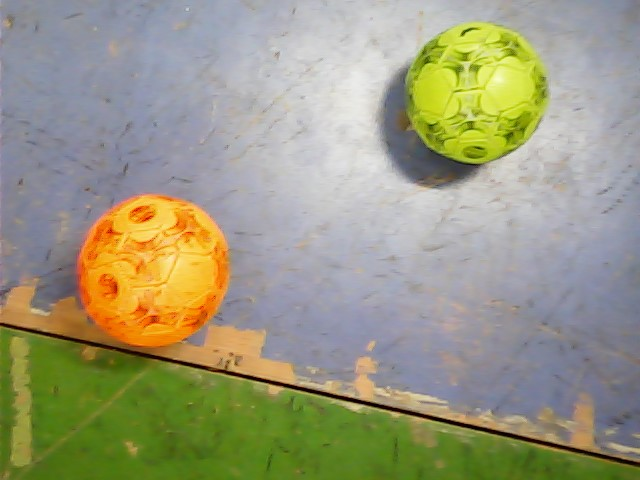Green_ball: (404, 21, 551, 166)
Orange_ball: (76, 190, 230, 348)
